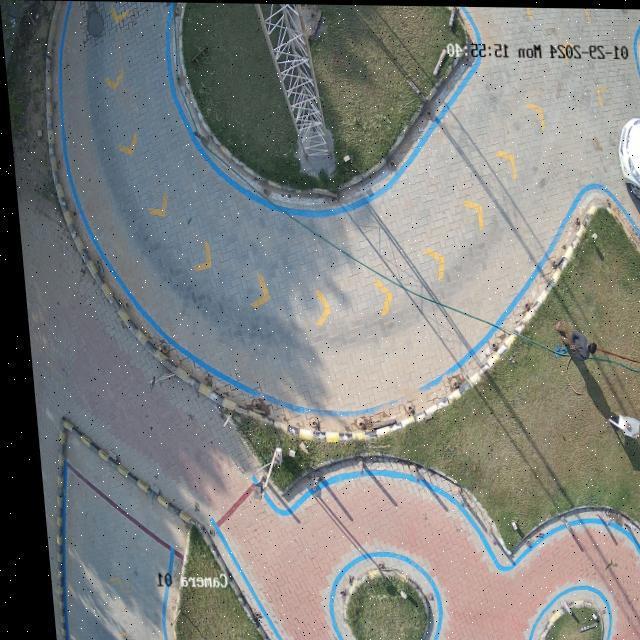car: (616, 116, 640, 199)
